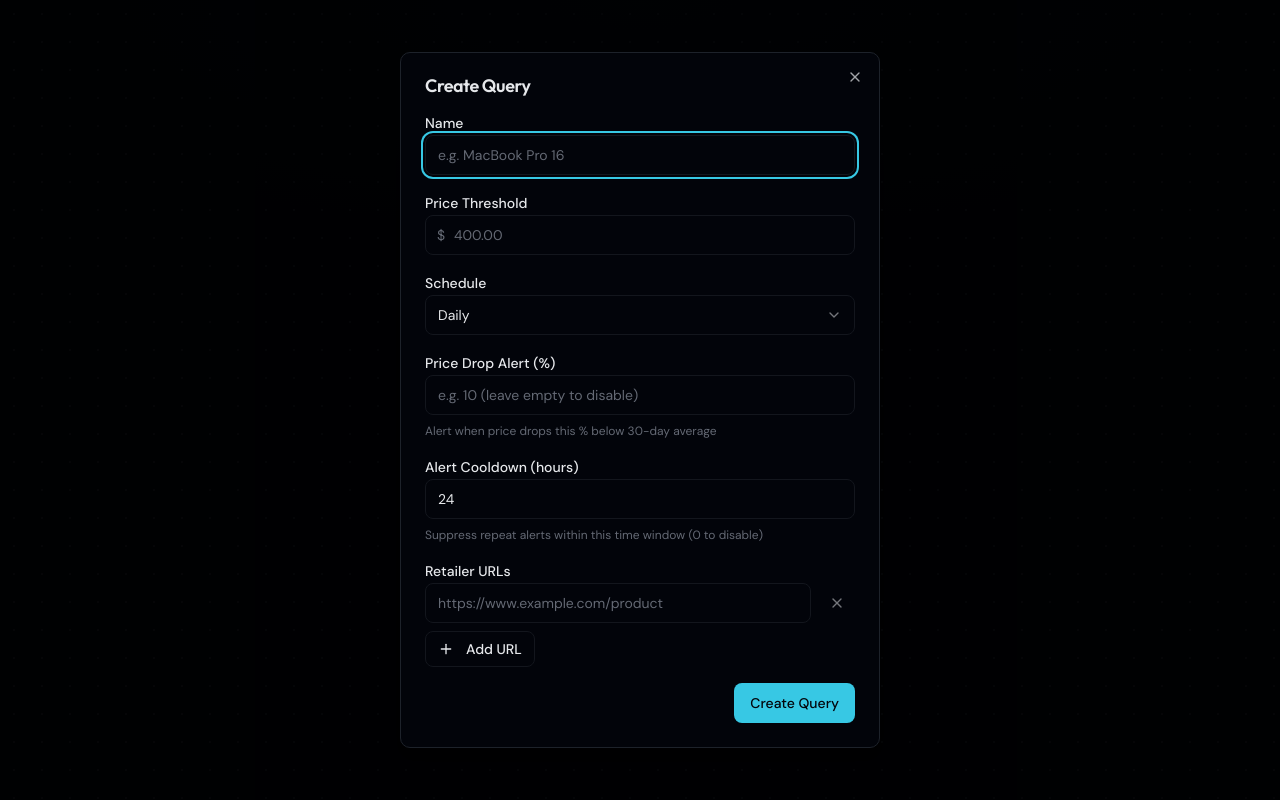
it: QueryFormDialog › validates empty name shows 'Query name is required' error
The width and height of the screenshot is (1280, 800).
Click the button "Create Query" at (795, 703), box [734,683,855,723]
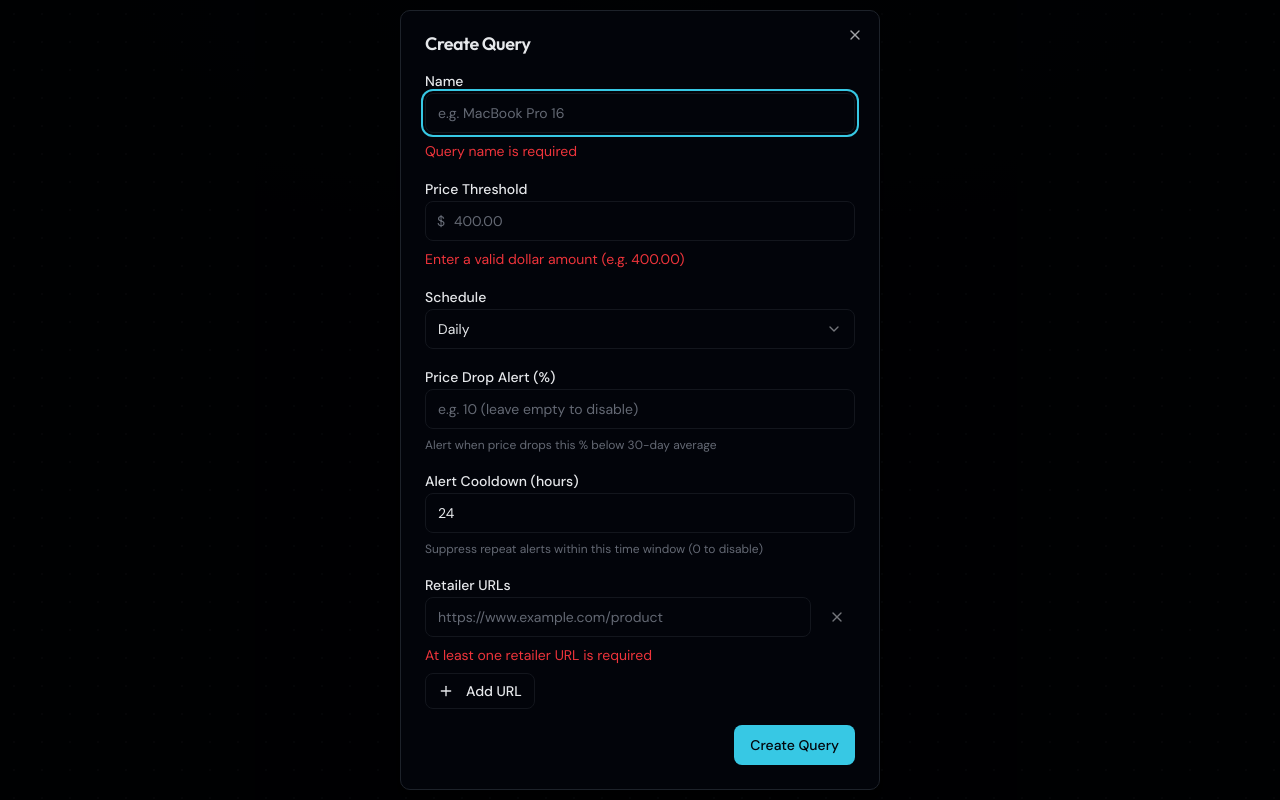
Now the text "Query name is required" is shown, box [425,142,577,160]
